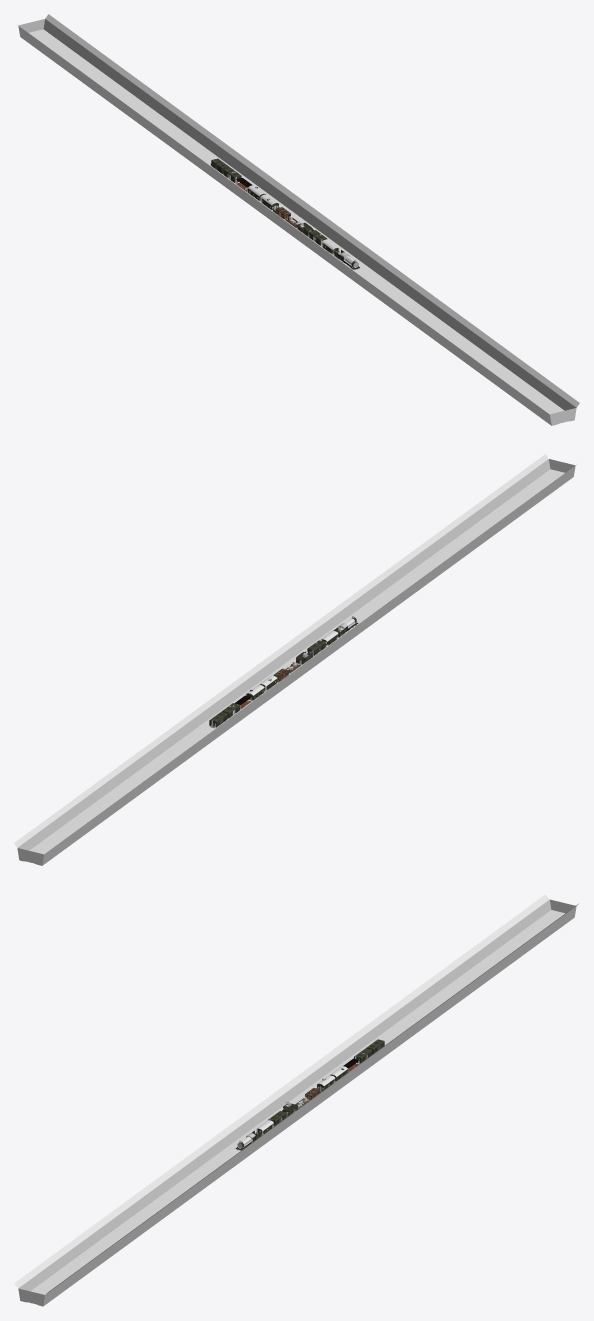
File: himmels.fbx
3 views of the same model, one above another, from view 1: azimuth 30°, elevation 25°; view 2: azimuth 150°, elevation 25°; view 3: azimuth 330°, elevation 25° (orthographic).
Visible parts, largest first — view 1: Himmels; view 2: Himmels; view 3: Himmels.
Boxes of the visible parts, <box> form: Himmels: <box>18,14,579,425</box>; Himmels: <box>14,454,575,865</box>; Himmels: <box>14,894,578,1306</box>.
Bounding box in the file's own units: 2419 × 64512 × 1075.
